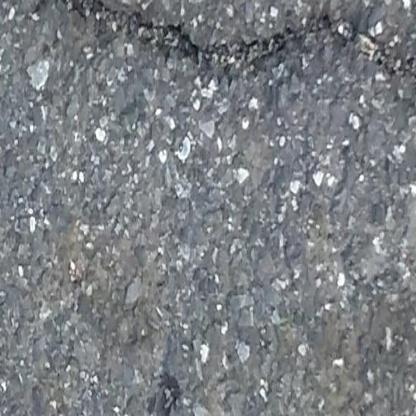Cracks: (36, 0, 416, 98)
